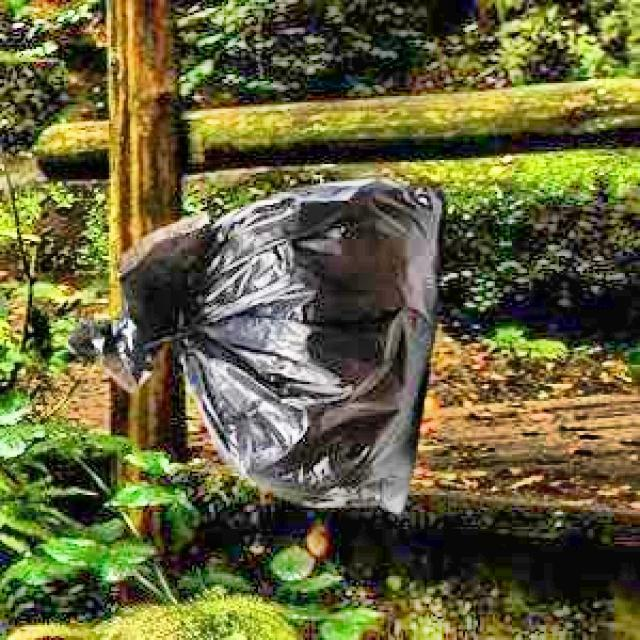Trashbag: (59, 171, 452, 525)
